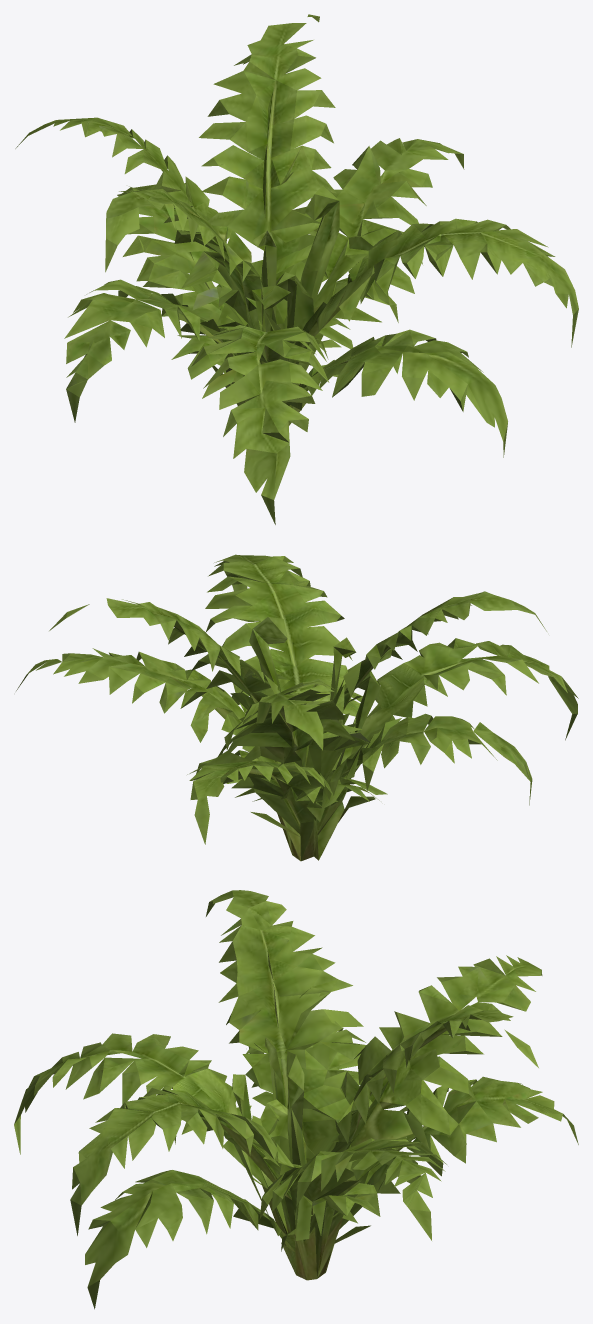
Rendered from VEG-006.glb.
The picture shows the model from 3 angles, top to bottom: view 1: azimuth 30°, elevation 25°; view 2: azimuth 150°, elevation 25°; view 3: azimuth 270°, elevation 25°; orthographic projection. The views are drawn at different scales.
Visible parts, largest first — view 1: VEG-006_LOD0; view 2: VEG-006_LOD0; view 3: VEG-006_LOD0.
Part boxes in pixels (bbox=[...]): VEG-006_LOD0: bbox=[15, 14, 578, 524]; VEG-006_LOD0: bbox=[16, 554, 578, 861]; VEG-006_LOD0: bbox=[14, 890, 578, 1309].
Size of what is drawn, in the model's own units: 1.44 by 0.9 by 1.47.
Materials: 1 (1 with a texture image).
